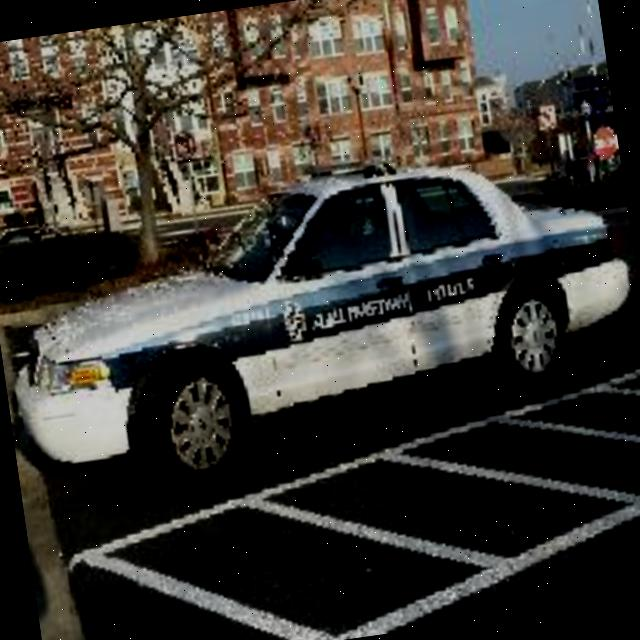emergency: (0, 130, 640, 501)
